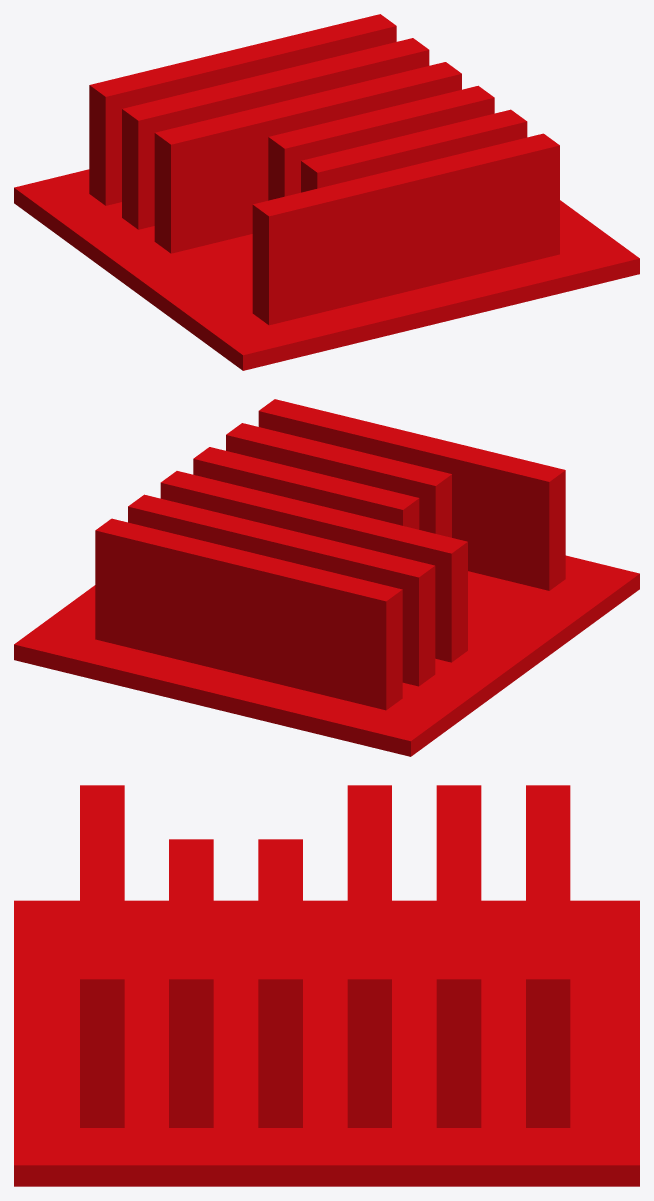
File: perc_0.glb
3 views of the same model, one above another, from view 1: azimuth 30°, elevation 25°; view 2: azimuth 150°, elevation 25°; view 3: azimuth 270°, elevation 25° (orthographic). The views are drawn at different scales.
Visible parts, largest first — view 1: Plane; view 2: Plane; view 3: Plane.
Part boxes in pixels (x1,y1,x2,y2): Plane: [14, 14, 639, 370]; Plane: [14, 399, 639, 756]; Plane: [14, 785, 639, 1186].
Size of the model in its own units: 2 by 0.6003 by 2.
